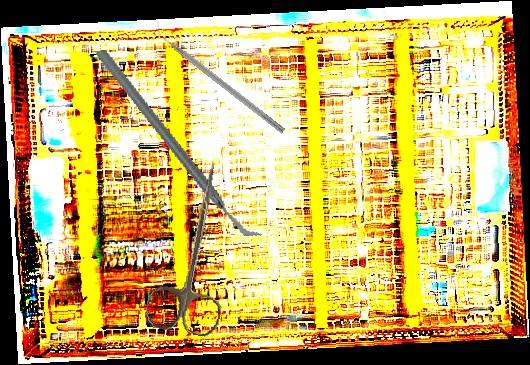Chopper: (95, 22, 263, 267), (150, 19, 291, 134)
Iris Scissors: (143, 157, 246, 339)
